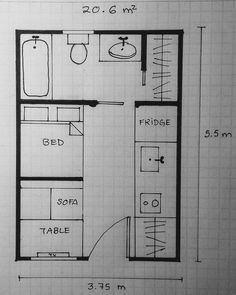door: (90, 215, 133, 261)
room: (15, 28, 179, 103), (120, 100, 178, 264), (14, 103, 101, 181), (20, 180, 90, 257)
wall: (173, 22, 185, 263), (14, 28, 21, 262), (17, 97, 98, 107), (92, 28, 184, 36), (130, 253, 181, 264), (19, 175, 84, 183), (134, 99, 182, 108), (19, 28, 63, 36), (140, 36, 149, 73), (76, 254, 91, 262)
window: (33, 250, 77, 263)
